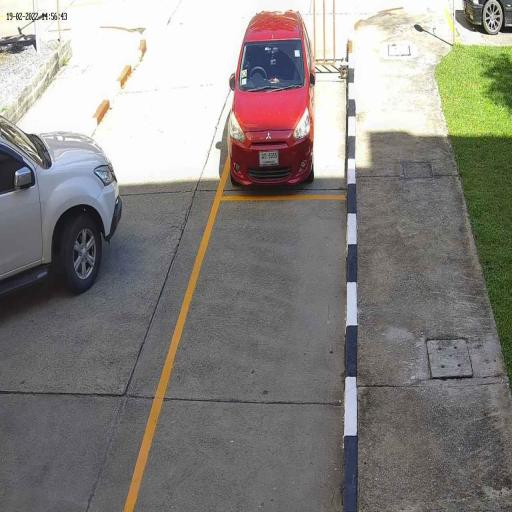car: (0, 111, 122, 296), (227, 8, 316, 190)
